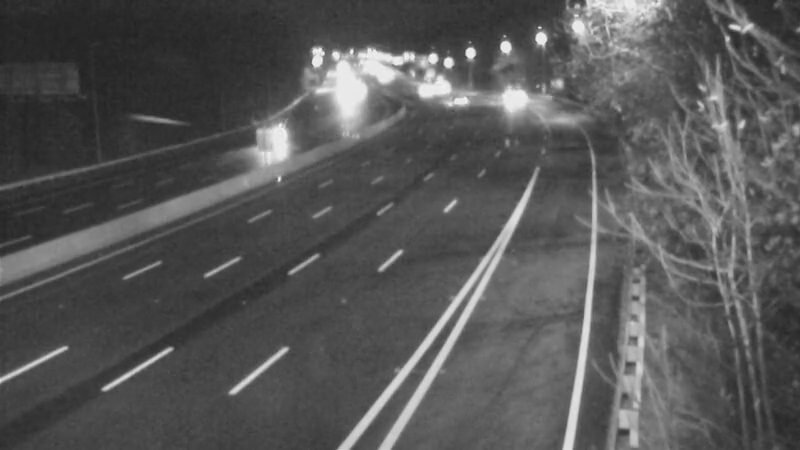vehicle: (417, 62, 467, 112), (394, 67, 444, 117), (429, 75, 479, 125), (484, 74, 534, 124), (253, 111, 303, 161)
